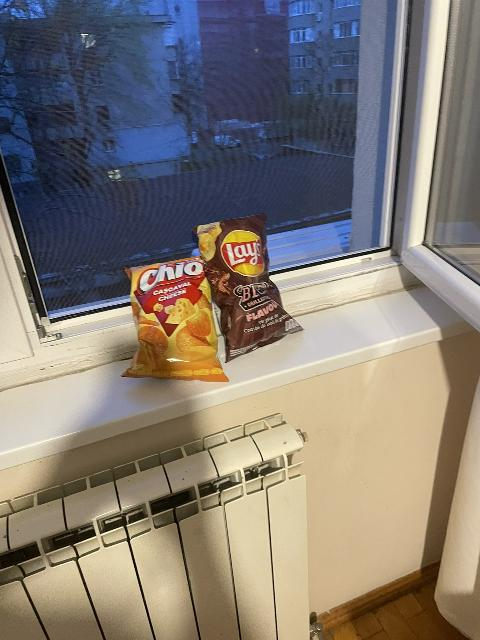Chio Cascaval 125g: (122, 258, 226, 379)
Lays Beef Grilled Ribs 125g: (195, 214, 303, 363)
